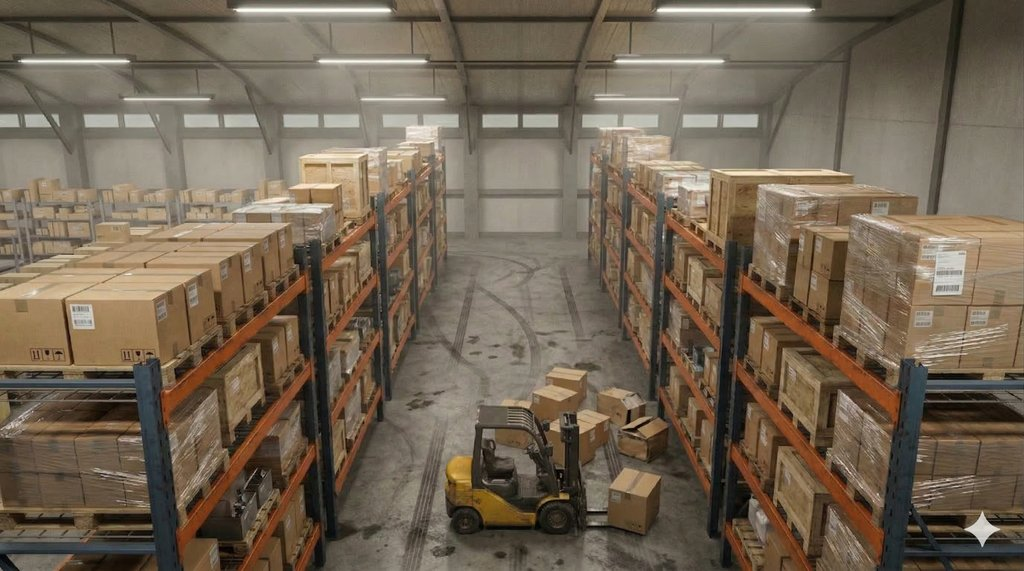forklift: (430, 403, 624, 541)
obstacle: (485, 340, 734, 555)
pallet: (163, 443, 247, 527), (4, 505, 161, 548), (829, 321, 906, 396), (149, 326, 245, 379), (828, 449, 899, 520), (906, 500, 1024, 541), (771, 388, 817, 449), (775, 488, 818, 551), (786, 293, 830, 339), (739, 355, 782, 397), (742, 263, 785, 296)
